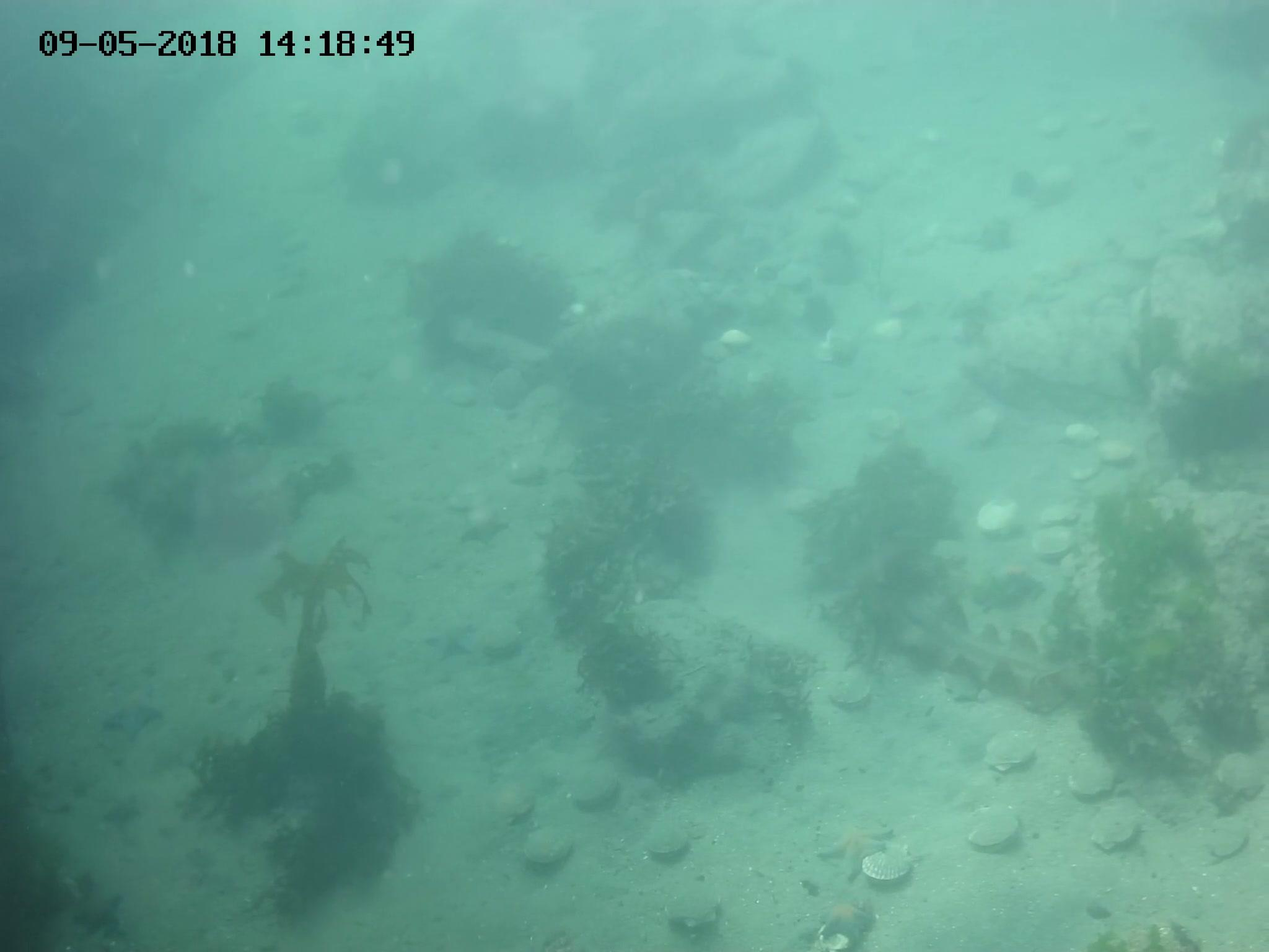holothurian: (816, 810, 892, 878), (815, 894, 879, 946), (102, 689, 167, 740), (72, 886, 126, 941), (424, 624, 472, 666), (459, 510, 510, 547), (105, 789, 147, 829)
scallop: (965, 805, 1022, 854), (1217, 748, 1269, 801), (985, 724, 1038, 775), (519, 826, 576, 871), (571, 764, 623, 813), (664, 889, 724, 930), (1067, 760, 1118, 804), (972, 494, 1020, 536), (861, 848, 913, 886), (939, 664, 987, 705), (643, 823, 693, 862), (1089, 818, 1139, 855), (780, 485, 824, 516), (1031, 527, 1074, 558), (828, 681, 872, 710), (1062, 421, 1105, 444), (1038, 501, 1076, 527), (876, 315, 911, 343), (719, 327, 757, 352), (1099, 442, 1133, 465)
